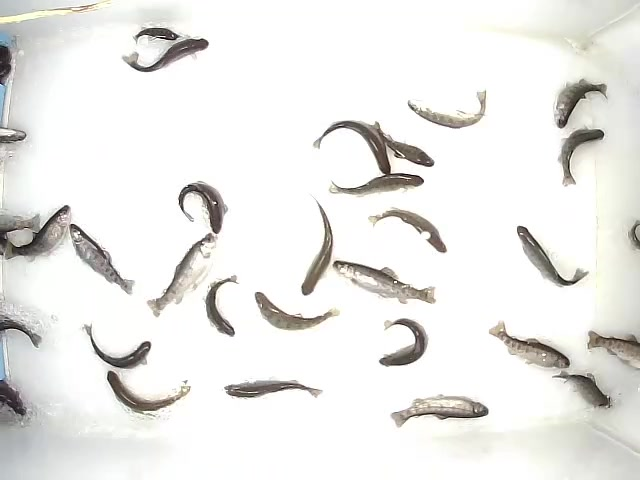fish: (145, 228, 214, 320), (331, 256, 440, 309), (67, 221, 137, 294), (516, 224, 591, 289), (311, 118, 395, 175), (487, 319, 576, 370), (1, 201, 74, 259), (365, 204, 447, 253), (388, 391, 490, 430), (254, 290, 341, 334), (104, 370, 191, 413), (80, 320, 155, 369), (297, 192, 332, 293), (405, 88, 491, 129), (120, 36, 210, 73), (551, 75, 609, 129), (176, 179, 230, 234), (375, 314, 431, 367), (559, 127, 607, 188), (373, 122, 436, 168), (550, 366, 614, 409), (203, 272, 244, 338), (329, 172, 426, 198), (222, 377, 326, 400), (129, 26, 179, 44)
